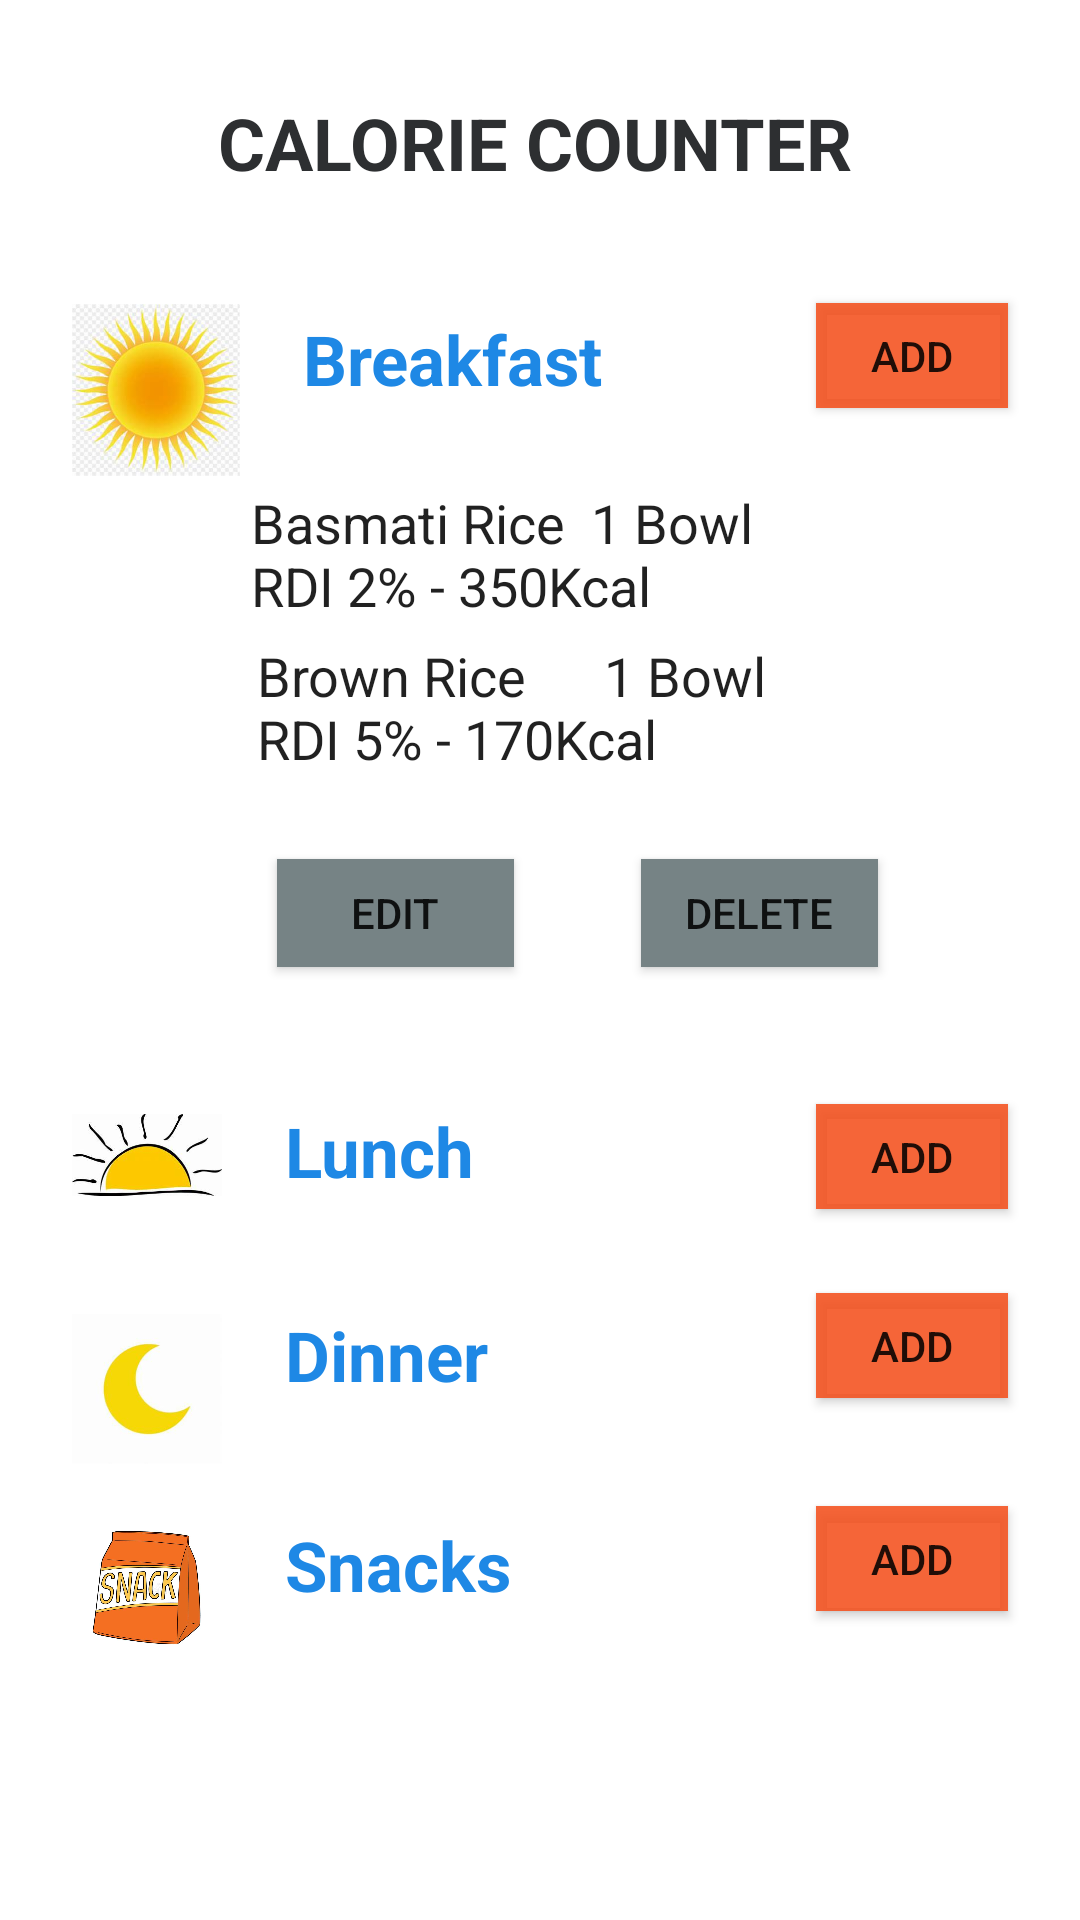

Screen size 1080*1920. Icon name, then its center in pixels as (x=x, y=y):
luch: (x=147, y=1155)
